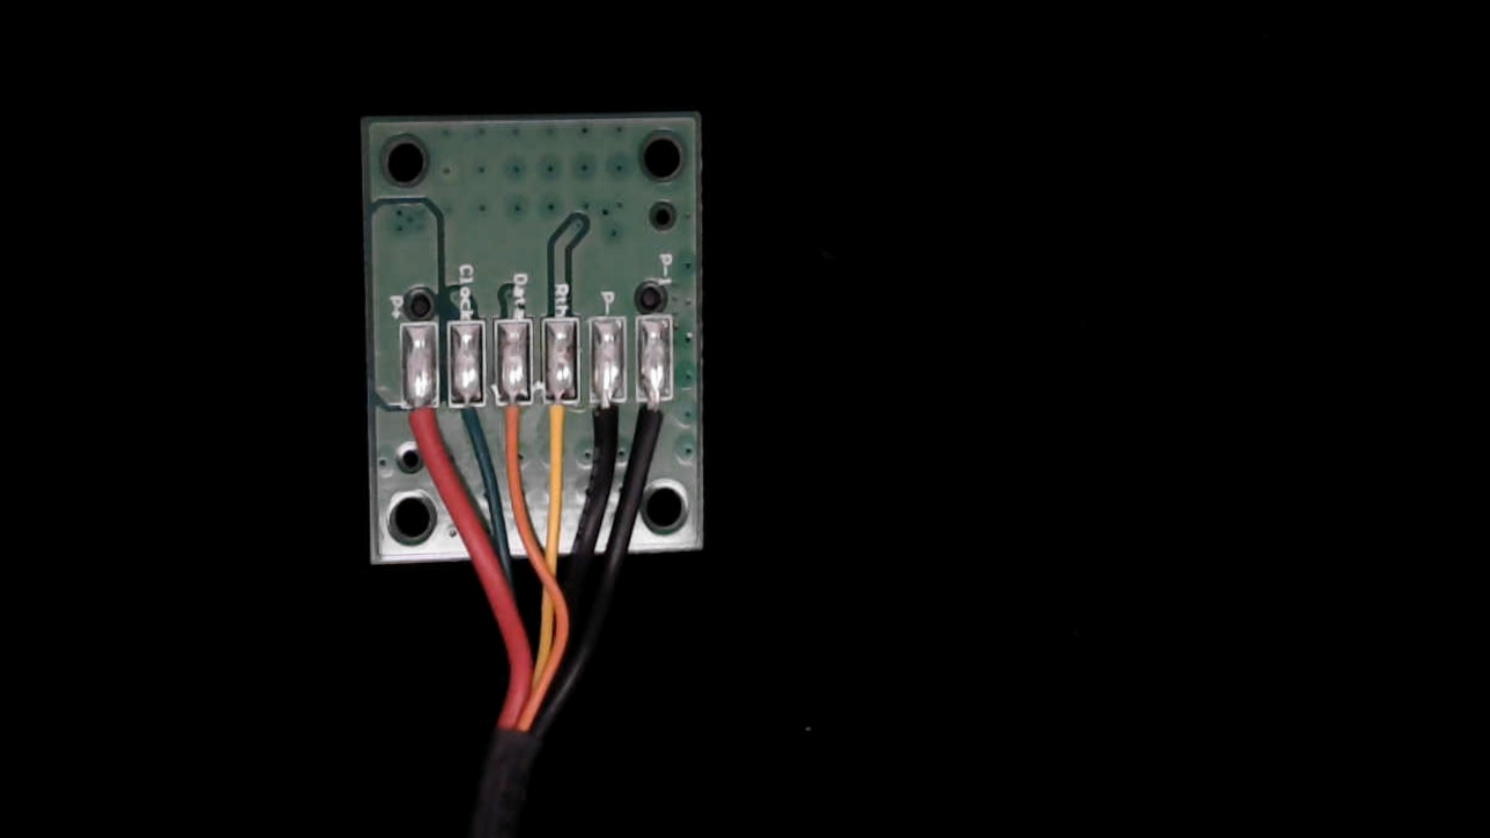Black: (584, 376, 629, 477)
Black1: (634, 374, 673, 455)
Green: (447, 383, 492, 466)
Orange: (493, 382, 532, 462)
Red: (402, 384, 443, 467)
Yellow: (539, 380, 580, 461)
